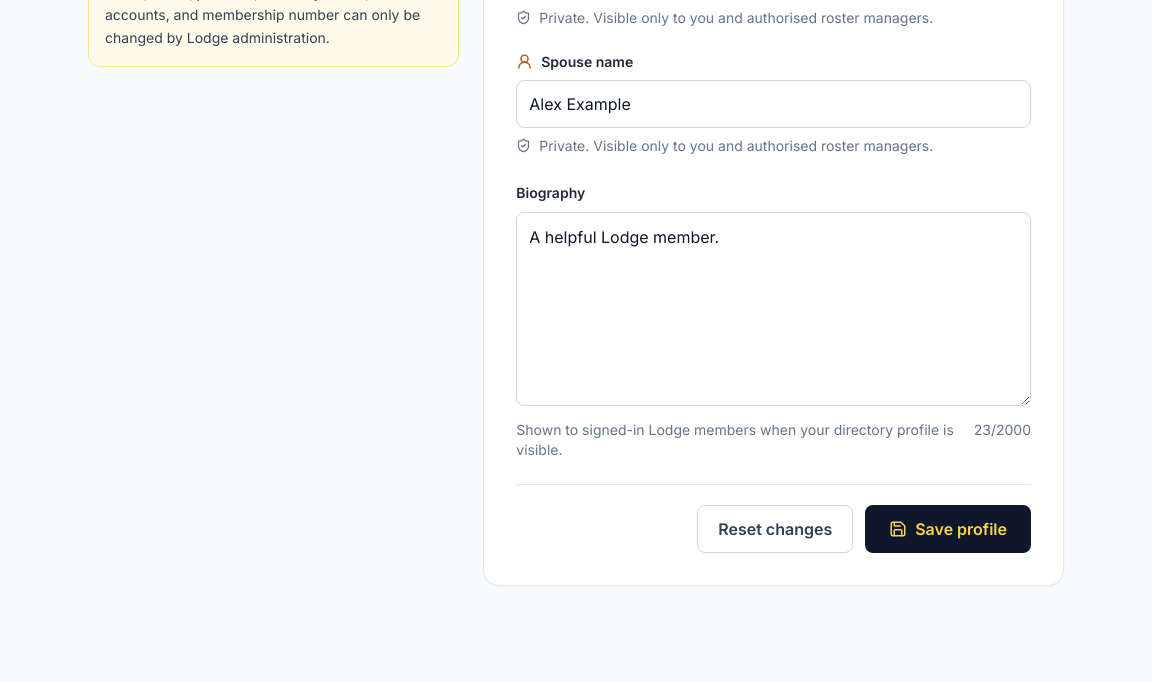
MyProfilePage › keeps the form open and presents server validation errors
(page scrolled)
Click the button "Save profile".
click(948, 528)  # box [865,504,1031,552]
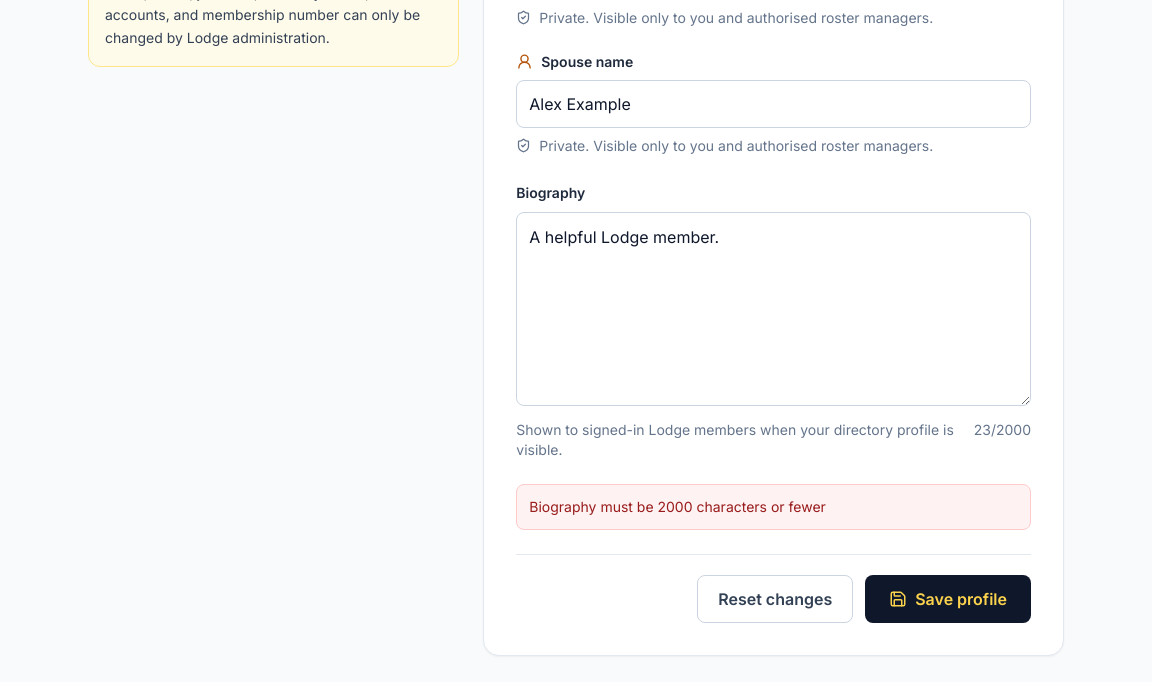
Check: the button "Save profile" is enabled, box [865,574,1031,622]
Check: the message reads "Biography must be 2000 characters or fewer", box [529,498,826,514]
